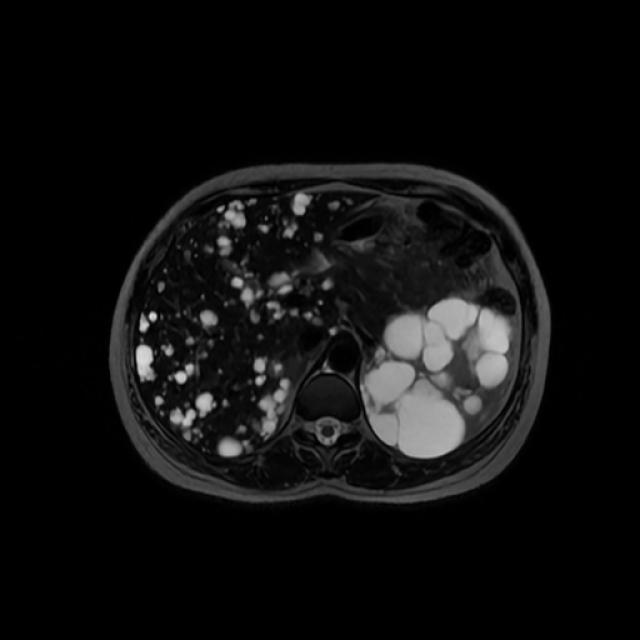sag: (259, 378, 292, 440)
sol: (366, 300, 510, 455)
